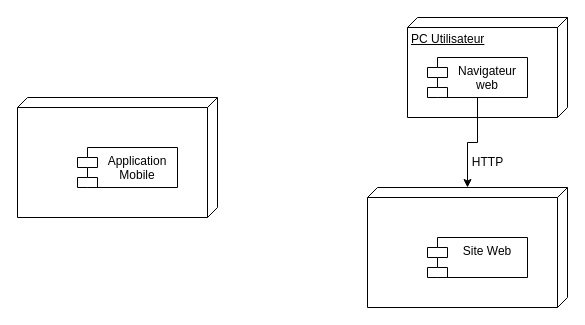
Image size: 585x325. Some labels were removed from this diagram. The shapes that lost their labels are listed below. From the top down, each one's box as (x1, y1, x2, y2) in pixels, then its label:
(16, 96, 218, 218): Smartphone
(366, 186, 568, 308): Serveur Web
